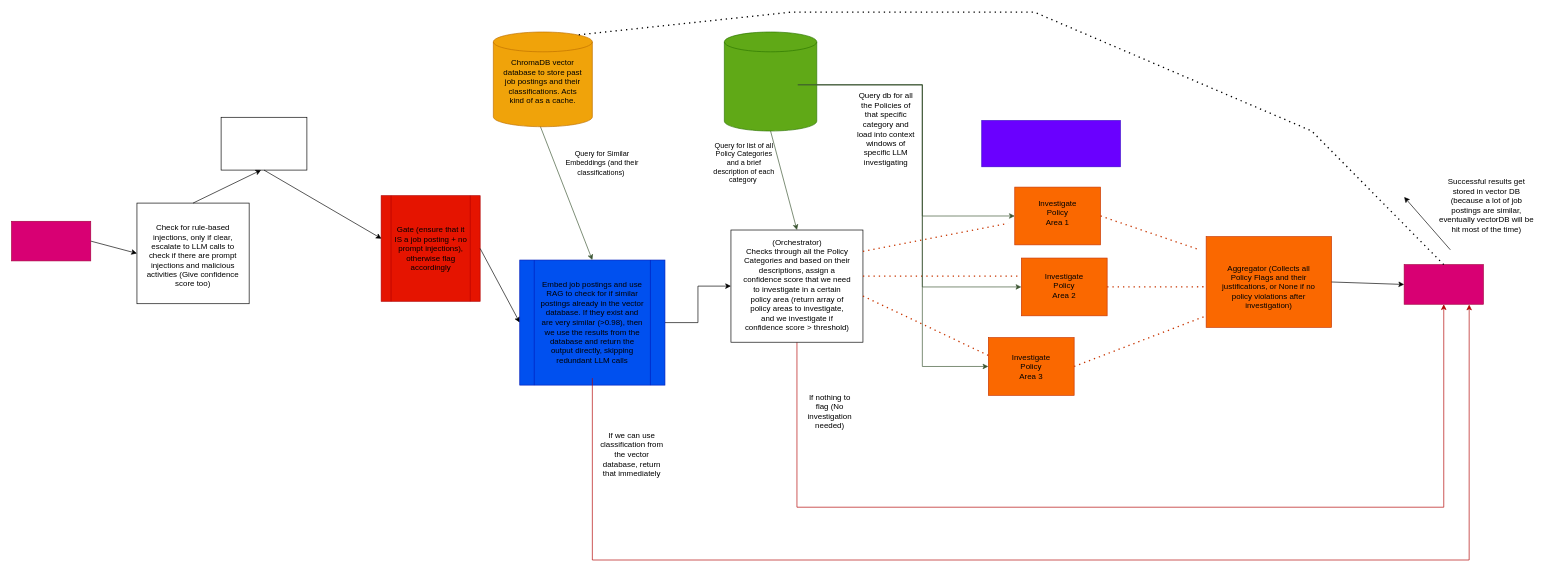
The diagram is 1548 pixels wide and 577 high, and some of its shapes have lost their labels. Here are the shapes that lost their labels. From the top down, the centre of each, then its label:
(x=770, y=81): PostGres SQL Database to stores Policies
(x=263, y=143): Is it a Job Posting? (Give Confidence Score)
(x=1050, y=143): Dynamically call LLMs in Parallel to investigate each policy area
(x=51, y=241): INPUT: Job Posting
(x=1443, y=284): Output to Client
